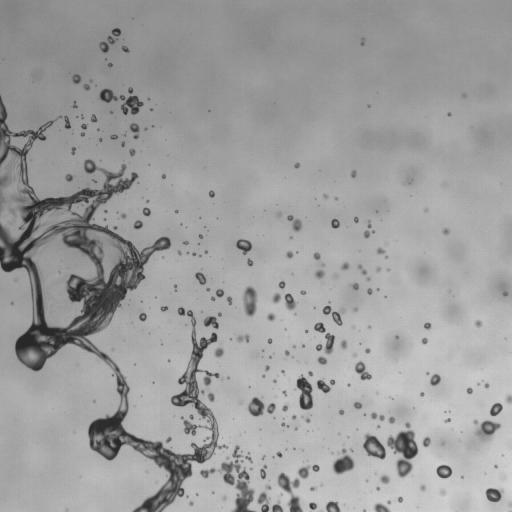droplet: (473, 419, 501, 441), (246, 396, 275, 417), (332, 447, 354, 474), (315, 332, 335, 354), (354, 360, 372, 380), (316, 378, 335, 394), (234, 239, 252, 255), (485, 488, 504, 503), (287, 214, 302, 232), (435, 464, 452, 479), (284, 293, 298, 310), (203, 316, 218, 329), (489, 402, 502, 416), (194, 272, 206, 285), (370, 411, 384, 421), (212, 346, 224, 357), (430, 373, 441, 385), (236, 333, 249, 343), (314, 322, 325, 333), (114, 35, 125, 46), (110, 99, 121, 110), (125, 112, 136, 123), (70, 134, 81, 145), (124, 136, 135, 147), (74, 152, 85, 163), (94, 171, 105, 182), (2, 185, 13, 196), (61, 186, 72, 197), (90, 213, 101, 224), (9, 228, 20, 239), (308, 260, 319, 271), (141, 263, 152, 274), (15, 266, 26, 277), (347, 266, 358, 277), (207, 279, 218, 290), (233, 296, 244, 307), (24, 298, 35, 309), (254, 298, 265, 309), (322, 315, 333, 326), (324, 320, 335, 331), (17, 322, 28, 333), (201, 326, 212, 337), (314, 332, 325, 343), (61, 342, 72, 353), (202, 346, 213, 357), (281, 357, 292, 368), (176, 362, 187, 373), (310, 387, 321, 398), (361, 402, 372, 413), (192, 414, 203, 425), (120, 418, 131, 429), (198, 427, 209, 438), (473, 435, 484, 446), (119, 443, 130, 454), (172, 443, 183, 454), (350, 451, 361, 462), (189, 460, 200, 471), (322, 461, 333, 472), (386, 466, 397, 477), (158, 468, 169, 479), (248, 469, 259, 480), (286, 469, 297, 480), (212, 470, 223, 481), (266, 471, 277, 482), (180, 477, 191, 488), (246, 478, 257, 489), (271, 484, 282, 495), (228, 486, 239, 497), (248, 500, 259, 511), (314, 269, 325, 279), (271, 292, 281, 303), (379, 474, 390, 484), (363, 230, 375, 238), (72, 74, 81, 84), (133, 220, 143, 229), (422, 436, 430, 447), (340, 262, 349, 271), (215, 288, 224, 297), (70, 119, 79, 128), (110, 164, 119, 173), (10, 165, 19, 174), (122, 170, 131, 179), (94, 181, 103, 190), (36, 191, 45, 200), (10, 200, 19, 209), (126, 215, 135, 224), (357, 221, 366, 230), (134, 242, 143, 251), (187, 242, 196, 251), (356, 275, 365, 284), (358, 282, 367, 291), (292, 292, 301, 301), (168, 305, 177, 314), (195, 314, 204, 323), (420, 328, 429, 337), (299, 333, 308, 342), (207, 342, 216, 351), (359, 353, 368, 362), (197, 359, 206, 368), (266, 369, 275, 378), (307, 376, 316, 385), (198, 393, 207, 402), (185, 402, 194, 411), (344, 403, 353, 412), (295, 417, 304, 426), (184, 433, 193, 442), (413, 435, 422, 444), (384, 445, 393, 454), (201, 460, 210, 469), (240, 460, 249, 469), (341, 469, 350, 478), (291, 487, 300, 496), (331, 218, 339, 228), (138, 311, 146, 321), (317, 356, 327, 364), (65, 173, 74, 181), (142, 207, 150, 216), (349, 282, 358, 290), (267, 312, 275, 321), (353, 401, 362, 409), (281, 402, 289, 411), (309, 502, 317, 511), (340, 339, 347, 349), (504, 394, 511, 404), (161, 505, 172, 511), (299, 505, 310, 511), (438, 488, 446, 496), (376, 247, 385, 254), (278, 280, 285, 289), (121, 45, 129, 52), (90, 114, 97, 122), (442, 227, 449, 235), (286, 250, 293, 258), (474, 320, 482, 327), (0, 164, 5, 175), (117, 213, 126, 219), (226, 296, 232, 305), (424, 322, 431, 329), (421, 337, 428, 344), (466, 387, 473, 394), (388, 416, 395, 423), (419, 484, 426, 491), (112, 89, 119, 96), (123, 91, 130, 98), (83, 116, 90, 123), (86, 121, 93, 128), (137, 128, 144, 135), (102, 134, 109, 141), (113, 138, 120, 145), (122, 145, 129, 152), (6, 150, 13, 157), (79, 182, 86, 189), (88, 183, 95, 190), (51, 191, 58, 198), (2, 202, 9, 209), (97, 203, 104, 210), (1, 207, 8, 214), (139, 214, 146, 221), (286, 220, 293, 227), (1, 221, 8, 228), (300, 221, 307, 228), (288, 228, 295, 235), (147, 238, 154, 245), (179, 244, 186, 251), (153, 249, 160, 256), (348, 262, 355, 269), (321, 274, 328, 281), (312, 276, 319, 283), (253, 285, 260, 292), (238, 286, 245, 293), (254, 288, 261, 295), (279, 288, 286, 295), (267, 290, 274, 297), (278, 297, 285, 304), (293, 304, 300, 311), (202, 311, 209, 318), (182, 314, 189, 321), (307, 324, 314, 331), (204, 332, 211, 339), (86, 333, 93, 340), (9, 338, 16, 345), (320, 338, 327, 345), (332, 340, 339, 347), (186, 343, 193, 350), (318, 349, 325, 356), (44, 357, 51, 364), (97, 358, 104, 365), (265, 358, 272, 365), (364, 365, 371, 372), (119, 367, 126, 374), (124, 377, 131, 384), (310, 382, 317, 389), (179, 383, 186, 390), (294, 388, 301, 395), (262, 400, 269, 407), (500, 400, 507, 407), (274, 404, 281, 411), (285, 408, 292, 415), (301, 408, 308, 415), (107, 409, 114, 416), (98, 412, 105, 419), (89, 414, 96, 421), (489, 415, 496, 422), (477, 416, 484, 423), (82, 423, 89, 430), (400, 425, 407, 432), (493, 428, 500, 435), (369, 429, 376, 436), (390, 431, 397, 438), (141, 433, 148, 440), (82, 434, 89, 441), (150, 435, 157, 442), (380, 438, 387, 445), (196, 440, 203, 447), (162, 442, 169, 449), (187, 447, 194, 454), (226, 447, 233, 454), (396, 451, 403, 458), (349, 452, 356, 459), (370, 455, 377, 462), (408, 457, 415, 464), (296, 461, 303, 468), (214, 462, 221, 469), (409, 467, 416, 474), (377, 469, 384, 476), (298, 477, 305, 484), (378, 481, 385, 488), (149, 488, 156, 495), (252, 492, 259, 499), (135, 499, 142, 506), (229, 502, 236, 509), (246, 502, 253, 509), (71, 100, 77, 108), (129, 148, 135, 156), (350, 170, 356, 178), (247, 258, 253, 266), (160, 306, 168, 312), (500, 473, 506, 481), (71, 146, 76, 155), (186, 506, 195, 511), (281, 506, 290, 511), (83, 84, 90, 90), (81, 123, 88, 129), (332, 272, 338, 279), (338, 408, 344, 415), (165, 436, 171, 443), (360, 37, 365, 45), (110, 134, 118, 139), (443, 418, 451, 423), (309, 486, 317, 491), (294, 162, 300, 168), (291, 414, 297, 420), (276, 451, 282, 457), (397, 496, 403, 502), (209, 190, 214, 197), (107, 62, 113, 67), (91, 179, 97, 184), (407, 179, 413, 184), (323, 193, 328, 199), (276, 211, 281, 217), (182, 240, 188, 245), (376, 266, 381, 272), (367, 288, 372, 294), (300, 290, 306, 295), (502, 291, 508, 296), (352, 307, 358, 312), (264, 365, 269, 371), (484, 382, 489, 388), (282, 390, 287, 396), (237, 400, 243, 405), (222, 495, 227, 501), (354, 216, 358, 223), (507, 290, 511, 297), (507, 388, 511, 395), (368, 507, 375, 511), (161, 173, 166, 178), (366, 276, 371, 281), (210, 296, 215, 301), (267, 338, 272, 343), (365, 348, 370, 353), (352, 352, 357, 357), (117, 24, 122, 29), (118, 33, 123, 38), (111, 34, 116, 39), (107, 43, 112, 48), (103, 51, 108, 56), (68, 79, 73, 84), (78, 80, 83, 85), (88, 82, 93, 87), (105, 84, 110, 89), (81, 88, 86, 93), (95, 90, 100, 95), (130, 91, 135, 96), (137, 96, 142, 101), (109, 98, 114, 103), (100, 99, 105, 104), (2, 100, 7, 105), (138, 105, 143, 110), (4, 106, 9, 111), (4, 118, 9, 123), (60, 120, 65, 125), (23, 125, 28, 130), (32, 126, 37, 131), (138, 126, 143, 131), (147, 126, 152, 131), (15, 128, 20, 133), (41, 130, 46, 135), (129, 130, 134, 135), (96, 131, 101, 136), (34, 137, 39, 142), (134, 150, 139, 155), (89, 155, 94, 160), (1, 160, 6, 165), (94, 161, 99, 166), (79, 165, 84, 170), (80, 168, 85, 173), (93, 169, 98, 174), (346, 169, 351, 174), (69, 170, 74, 175), (355, 171, 360, 176), (87, 172, 92, 177), (61, 177, 66, 182), (71, 177, 76, 182), (133, 177, 138, 182), (27, 180, 32, 185), (131, 180, 136, 185), (19, 183, 24, 188), (122, 188, 127, 193), (213, 189, 218, 194), (111, 192, 116, 197), (318, 194, 323, 199), (328, 194, 333, 199), (106, 198, 111, 203), (144, 202, 149, 207), (149, 211, 154, 216), (102, 212, 107, 217), (282, 213, 287, 218), (292, 214, 297, 219), (88, 219, 93, 224), (129, 220, 134, 225), (100, 222, 105, 227), (338, 222, 343, 227), (446, 224, 451, 229), (107, 225, 112, 230), (362, 225, 367, 230), (438, 225, 443, 230), (137, 227, 142, 232), (367, 227, 372, 232), (112, 228, 117, 233), (448, 230, 453, 235), (163, 232, 168, 237), (368, 232, 373, 237), (439, 232, 444, 237), (359, 233, 364, 238), (154, 234, 159, 239), (123, 235, 128, 240), (244, 235, 249, 240), (169, 238, 174, 243), (250, 241, 255, 246), (380, 244, 385, 249), (161, 248, 166, 253), (237, 248, 242, 253), (371, 248, 376, 253), (180, 249, 185, 254), (199, 249, 204, 254), (246, 250, 251, 255), (281, 250, 286, 255), (201, 253, 206, 258), (379, 253, 384, 258), (148, 255, 153, 260), (319, 255, 324, 260), (286, 257, 291, 262), (310, 257, 315, 262), (338, 260, 343, 265), (142, 263, 147, 268), (361, 264, 366, 269), (317, 265, 322, 270), (321, 266, 326, 271), (195, 267, 200, 272), (380, 267, 385, 272), (343, 268, 348, 273), (356, 268, 361, 273), (365, 271, 370, 276), (376, 271, 381, 276), (361, 274, 366, 279), (140, 278, 145, 283), (193, 278, 198, 283), (349, 279, 354, 284), (203, 282, 208, 287), (218, 284, 223, 289), (300, 285, 305, 290), (348, 286, 353, 291), (503, 286, 508, 291), (125, 288, 130, 293), (371, 289, 376, 294), (211, 291, 216, 296), (221, 294, 226, 299), (214, 295, 219, 300), (231, 298, 236, 303), (118, 299, 123, 304), (115, 306, 120, 311), (183, 306, 188, 311), (330, 306, 335, 311), (289, 308, 294, 313), (173, 310, 178, 315), (212, 312, 217, 317), (339, 314, 344, 319), (474, 315, 479, 320), (273, 316, 278, 321), (478, 316, 483, 321), (215, 317, 220, 322), (266, 319, 271, 324), (481, 320, 486, 325), (187, 323, 192, 328), (471, 323, 476, 328), (478, 325, 483, 330), (240, 330, 245, 335), (320, 331, 325, 336), (216, 335, 221, 340), (231, 336, 236, 341), (417, 340, 422, 345), (345, 341, 350, 346), (10, 342, 15, 347), (296, 342, 301, 347), (363, 343, 368, 348), (360, 346, 365, 351), (288, 347, 293, 352), (82, 348, 87, 353), (101, 348, 106, 353), (222, 350, 227, 355), (280, 351, 285, 356), (219, 354, 224, 359), (286, 354, 291, 359), (353, 358, 358, 363), (15, 359, 20, 364), (316, 362, 321, 367), (196, 364, 201, 369), (28, 368, 33, 373), (37, 368, 42, 373), (109, 368, 114, 373), (209, 368, 214, 373), (260, 368, 265, 373), (264, 370, 269, 375), (428, 371, 433, 376), (177, 372, 182, 377), (218, 372, 223, 377), (355, 372, 360, 377), (438, 372, 443, 377), (294, 374, 299, 379), (426, 374, 431, 379), (209, 375, 214, 380), (111, 376, 116, 381), (363, 378, 368, 383), (324, 379, 329, 384), (291, 380, 296, 385), (479, 381, 484, 386), (112, 382, 117, 387), (435, 382, 440, 387), (471, 385, 476, 390), (326, 390, 331, 395), (126, 392, 131, 397), (115, 393, 120, 398), (213, 394, 218, 399), (247, 396, 252, 401), (356, 397, 361, 402), (271, 398, 276, 403), (311, 398, 316, 403), (349, 399, 354, 404), (294, 400, 299, 405), (127, 401, 132, 406), (486, 404, 491, 409), (176, 405, 181, 410), (261, 407, 266, 412), (353, 407, 358, 412), (358, 407, 363, 412), (280, 410, 285, 415), (497, 411, 502, 416), (366, 412, 371, 417), (391, 412, 396, 417), (248, 413, 253, 418), (443, 413, 448, 418), (256, 414, 261, 419), (184, 415, 189, 420), (383, 416, 388, 421), (403, 417, 408, 422), (468, 417, 473, 422), (189, 419, 194, 424), (206, 422, 211, 427), (304, 422, 309, 427), (180, 423, 185, 428), (288, 425, 293, 430), (408, 425, 413, 430), (194, 427, 199, 432), (207, 430, 212, 435), (135, 433, 140, 438), (360, 437, 365, 442), (216, 440, 221, 445), (427, 442, 432, 447), (337, 445, 342, 450), (287, 446, 292, 451), (361, 448, 366, 453), (92, 450, 97, 455), (134, 450, 139, 455), (345, 450, 350, 455), (241, 451, 246, 456), (99, 455, 104, 460), (230, 456, 235, 461), (374, 456, 379, 461), (149, 458, 154, 463), (261, 459, 266, 464), (309, 460, 314, 465), (438, 460, 443, 465), (443, 460, 448, 465), (301, 462, 306, 467), (449, 464, 454, 469), (307, 467, 312, 472), (245, 468, 250, 473), (432, 471, 437, 476), (207, 472, 212, 477), (449, 473, 454, 478), (198, 474, 203, 479), (437, 476, 442, 481), (441, 477, 446, 482), (419, 479, 424, 484), (224, 482, 229, 487), (415, 483, 420, 488), (424, 483, 429, 488), (491, 484, 496, 489), (481, 487, 486, 492), (235, 488, 240, 493), (183, 489, 188, 494), (417, 489, 422, 494), (481, 492, 486, 497), (500, 492, 505, 497), (174, 494, 179, 499), (188, 495, 193, 500), (309, 497, 314, 502), (331, 497, 336, 502), (489, 500, 494, 505), (495, 500, 500, 505), (382, 501, 387, 506), (337, 503, 342, 508), (281, 369, 285, 375), (420, 391, 424, 397), (261, 454, 265, 460), (507, 501, 511, 507), (0, 148, 3, 155), (0, 239, 3, 246), (122, 131, 126, 136), (198, 234, 203, 238), (177, 250, 181, 255), (394, 335, 399, 339), (272, 379, 276, 384), (349, 447, 353, 452), (189, 501, 193, 506), (386, 500, 391, 504), (121, 141, 124, 147), (462, 93, 466, 97), (109, 110, 113, 114), (447, 112, 451, 116), (80, 132, 84, 136), (334, 196, 338, 200), (145, 199, 149, 203), (174, 209, 178, 213), (424, 208, 428, 212), (204, 250, 208, 254), (384, 255, 388, 259), (206, 287, 210, 291), (351, 325, 355, 329), (367, 325, 371, 329), (305, 329, 309, 333), (292, 344, 296, 348), (261, 374, 265, 378), (376, 425, 380, 429), (494, 464, 498, 468), (376, 486, 380, 490), (81, 114, 84, 119), (99, 137, 102, 142), (267, 508, 272, 511), (311, 508, 316, 511), (367, 104, 371, 107), (149, 108, 153, 111), (143, 127, 147, 130), (104, 209, 107, 213), (289, 236, 293, 239), (192, 252, 196, 255), (386, 268, 390, 271), (375, 288, 379, 291), (10, 301, 13, 305), (218, 312, 221, 316), (301, 344, 305, 347), (226, 376, 230, 379), (347, 383, 350, 387), (363, 412, 366, 416), (249, 467, 253, 470), (320, 483, 323, 487), (186, 494, 189, 498), (0, 266, 2, 271), (89, 79, 92, 82), (147, 97, 150, 100), (198, 216, 201, 219), (186, 251, 189, 254), (198, 254, 201, 257), (200, 310, 203, 313), (261, 349, 264, 352), (167, 359, 170, 362), (426, 372, 429, 375), (477, 382, 480, 385), (337, 432, 340, 435), (292, 447, 295, 450), (330, 451, 333, 454), (374, 472, 377, 475), (460, 475, 463, 478), (365, 479, 368, 482), (211, 491, 214, 494), (195, 492, 198, 495), (65, 508, 68, 511), (113, 25, 116, 28), (358, 39, 361, 42), (363, 40, 366, 43), (358, 44, 361, 47), (127, 46, 130, 49), (121, 50, 124, 53), (105, 60, 108, 63), (110, 60, 113, 63), (105, 65, 108, 68), (109, 66, 112, 69), (147, 94, 150, 97), (367, 101, 370, 104), (70, 102, 73, 105), (75, 102, 78, 105), (364, 105, 367, 108), (73, 107, 76, 110), (367, 107, 370, 110), (119, 109, 122, 112), (204, 109, 207, 112), (148, 110, 151, 113), (207, 111, 210, 114), (444, 111, 447, 114), (450, 111, 453, 114), (57, 112, 60, 115), (107, 112, 110, 115), (78, 115, 81, 118), (95, 115, 98, 118), (447, 115, 450, 118), (50, 117, 53, 120), (44, 119, 47, 122), (41, 121, 44, 124), (92, 121, 95, 124), (151, 121, 154, 124), (51, 122, 54, 125), (69, 122, 72, 125), (63, 127, 66, 130), (68, 127, 71, 130), (81, 128, 84, 131), (98, 129, 101, 132), (111, 131, 114, 134), (115, 132, 118, 135), (77, 133, 80, 136), (82, 135, 85, 138), (136, 137, 139, 140), (101, 138, 104, 141), (112, 138, 115, 141), (133, 138, 136, 141), (96, 139, 99, 142), (74, 144, 77, 147), (68, 148, 71, 151), (74, 149, 77, 152), (126, 151, 129, 154), (25, 153, 28, 156), (121, 160, 124, 163), (292, 161, 295, 164), (26, 164, 29, 167), (146, 165, 149, 168), (295, 167, 298, 170), (136, 172, 139, 175), (158, 175, 161, 178), (165, 175, 168, 178), (349, 176, 352, 179), (162, 178, 165, 181), (411, 180, 414, 183), (408, 183, 411, 186), (32, 187, 35, 190), (324, 191, 327, 194), (205, 192, 208, 195), (335, 193, 338, 196), (213, 194, 216, 197), (207, 195, 210, 198), (146, 196, 149, 199), (337, 196, 340, 199), (143, 197, 146, 200), (333, 199, 336, 202), (175, 206, 178, 209), (172, 207, 175, 210), (149, 208, 152, 211), (139, 209, 142, 212), (177, 209, 180, 212), (372, 209, 375, 212), (118, 211, 121, 214), (173, 212, 176, 215), (286, 212, 289, 215), (200, 214, 203, 217), (335, 216, 338, 219), (350, 217, 353, 220), (199, 218, 202, 221), (357, 219, 360, 222), (352, 221, 355, 224), (176, 222, 179, 225), (203, 222, 206, 225), (328, 222, 331, 225), (181, 224, 184, 227), (333, 227, 336, 230), (374, 230, 377, 233), (201, 232, 204, 235), (286, 235, 289, 238), (196, 236, 199, 239), (237, 236, 240, 239), (182, 238, 185, 241), (289, 238, 292, 241), (233, 241, 236, 244), (199, 242, 202, 245), (181, 243, 184, 246), (297, 248, 300, 251), (192, 249, 195, 252), (207, 249, 210, 252), (292, 251, 295, 254), (175, 252, 178, 255), (188, 252, 191, 255), (206, 252, 209, 255), (195, 253, 198, 256), (387, 256, 390, 259), (252, 262, 255, 265), (248, 265, 251, 268), (192, 272, 195, 275), (204, 275, 207, 278), (277, 279, 280, 282), (376, 284, 379, 287), (171, 286, 174, 289), (175, 286, 178, 289), (379, 287, 382, 290), (500, 289, 503, 292), (305, 290, 308, 293), (174, 291, 177, 294), (365, 292, 368, 295), (383, 292, 386, 295), (499, 293, 502, 296), (386, 295, 389, 298), (504, 295, 507, 298), (207, 296, 210, 299), (383, 297, 386, 300), (142, 299, 145, 302), (209, 299, 212, 302), (7, 300, 10, 303), (225, 300, 228, 303), (13, 301, 16, 304), (325, 302, 328, 305), (162, 303, 165, 306), (312, 303, 315, 306), (309, 305, 312, 308), (157, 306, 160, 309), (167, 306, 170, 309), (357, 308, 360, 311), (140, 309, 143, 312), (164, 309, 167, 312), (319, 309, 322, 312), (354, 311, 357, 314), (136, 312, 139, 315), (145, 312, 148, 315), (221, 312, 224, 315), (328, 312, 331, 315), (192, 313, 195, 316), (187, 315, 190, 318), (144, 318, 147, 321), (138, 319, 141, 322), (424, 319, 427, 322), (428, 320, 431, 323), (217, 323, 220, 326), (370, 323, 373, 326), (430, 323, 433, 326), (194, 324, 197, 327), (283, 324, 286, 327), (322, 324, 325, 327), (364, 324, 367, 327), (420, 324, 423, 327), (286, 326, 289, 329), (304, 326, 307, 329), (422, 327, 425, 330), (281, 328, 284, 331), (367, 328, 370, 331), (301, 329, 304, 332), (305, 332, 308, 335), (396, 332, 399, 335), (228, 334, 231, 337), (420, 335, 423, 338), (188, 336, 191, 339), (392, 336, 395, 339), (248, 337, 251, 340), (395, 338, 398, 341), (264, 339, 267, 342), (359, 339, 362, 342), (158, 340, 161, 343), (271, 340, 274, 343), (301, 340, 304, 343), (162, 341, 165, 344), (292, 341, 295, 344), (266, 342, 269, 345), (425, 342, 428, 345), (304, 343, 307, 346), (356, 343, 359, 346), (158, 344, 161, 347), (301, 347, 304, 350), (313, 348, 316, 351), (258, 349, 261, 352), (268, 352, 271, 355), (366, 352, 369, 355), (265, 354, 268, 357), (271, 354, 274, 357), (168, 356, 171, 359), (164, 358, 167, 361), (170, 359, 173, 362), (135, 362, 138, 365), (131, 364, 134, 367), (262, 366, 265, 369), (281, 366, 284, 369), (268, 367, 271, 370), (309, 368, 312, 371), (425, 368, 428, 371), (279, 372, 282, 375), (229, 376, 232, 379), (331, 376, 334, 379), (151, 377, 154, 380), (261, 377, 264, 380), (275, 377, 278, 380), (334, 379, 337, 382), (154, 380, 157, 383), (344, 381, 347, 384), (272, 382, 275, 385), (151, 383, 154, 386), (250, 384, 253, 387), (349, 384, 352, 387), (488, 384, 491, 387), (465, 385, 468, 388), (245, 386, 248, 389), (281, 387, 284, 390), (484, 387, 487, 390), (463, 388, 466, 391), (417, 390, 420, 393), (423, 390, 426, 393), (464, 391, 467, 394), (281, 393, 284, 396), (423, 393, 426, 396), (391, 394, 394, 397), (388, 397, 391, 400), (95, 399, 98, 402), (391, 399, 394, 402), (337, 407, 340, 410), (445, 408, 448, 411), (343, 411, 346, 414), (337, 413, 340, 416), (213, 414, 216, 417), (362, 415, 365, 418), (450, 418, 453, 421), (180, 419, 183, 422), (281, 419, 284, 422), (284, 421, 287, 424), (446, 421, 449, 424), (283, 425, 286, 428), (297, 426, 300, 429), (217, 428, 220, 431), (308, 428, 311, 431), (295, 429, 298, 432), (306, 431, 309, 434), (224, 442, 227, 445), (236, 442, 239, 445), (292, 444, 295, 447), (221, 446, 224, 449), (295, 447, 298, 450), (275, 449, 278, 452), (291, 449, 294, 452), (280, 451, 283, 454), (503, 453, 506, 456), (259, 454, 262, 457), (274, 454, 277, 457), (263, 456, 266, 459), (250, 457, 253, 460), (314, 461, 317, 464), (496, 463, 499, 466), (266, 464, 269, 467), (318, 465, 321, 468), (493, 467, 496, 470), (263, 468, 266, 471), (264, 475, 267, 478), (463, 475, 466, 478), (204, 477, 207, 480), (367, 477, 370, 480), (460, 478, 463, 481), (373, 487, 376, 490), (213, 489, 216, 492), (310, 490, 313, 493), (197, 491, 200, 494), (182, 493, 185, 496), (210, 493, 213, 496), (398, 493, 401, 496), (401, 495, 404, 498), (394, 497, 397, 500), (401, 500, 404, 503), (192, 503, 195, 506), (189, 505, 192, 508), (185, 322, 187, 326), (75, 116, 78, 118), (151, 125, 154, 127), (97, 128, 99, 131), (103, 218, 106, 220), (197, 242, 199, 245), (161, 256, 164, 258), (58, 270, 60, 273), (384, 296, 387, 298), (313, 306, 315, 309), (284, 328, 287, 330), (229, 338, 232, 340), (358, 342, 361, 344), (248, 385, 250, 388), (273, 416, 275, 419), (359, 509, 362, 511), (105, 58, 107, 60), (148, 163, 150, 165), (137, 181, 139, 183), (116, 211, 118, 213), (376, 210, 378, 212), (216, 217, 218, 219), (180, 223, 182, 225), (185, 226, 187, 228), (296, 251, 298, 253), (140, 300, 142, 302), (328, 301, 330, 303), (148, 332, 150, 334), (504, 337, 506, 339), (291, 356, 293, 358), (481, 379, 483, 381), (152, 381, 154, 383), (261, 396, 263, 398), (93, 400, 95, 402), (282, 417, 284, 419), (259, 428, 261, 430), (356, 428, 358, 430), (460, 431, 462, 433), (347, 436, 349, 438), (285, 448, 287, 450), (501, 454, 503, 456), (272, 456, 274, 458), (208, 110, 210, 111), (204, 226, 205, 228), (155, 296, 156, 298), (134, 363, 135, 365), (301, 450, 303, 451), (95, 85, 96, 86), (99, 160, 100, 161), (314, 336, 315, 337), (413, 407, 414, 408)
ligament: (293, 371, 313, 409), (99, 28, 121, 52), (242, 286, 257, 317), (317, 500, 341, 511), (313, 252, 325, 267), (373, 502, 391, 511), (129, 123, 139, 139), (357, 264, 367, 275), (260, 464, 267, 479), (284, 349, 289, 359), (281, 422, 289, 427), (367, 219, 371, 228), (173, 284, 177, 291), (269, 353, 274, 358), (388, 395, 393, 399), (444, 410, 450, 413), (294, 424, 297, 430), (294, 311, 296, 315), (362, 509, 366, 511), (507, 509, 511, 511)
